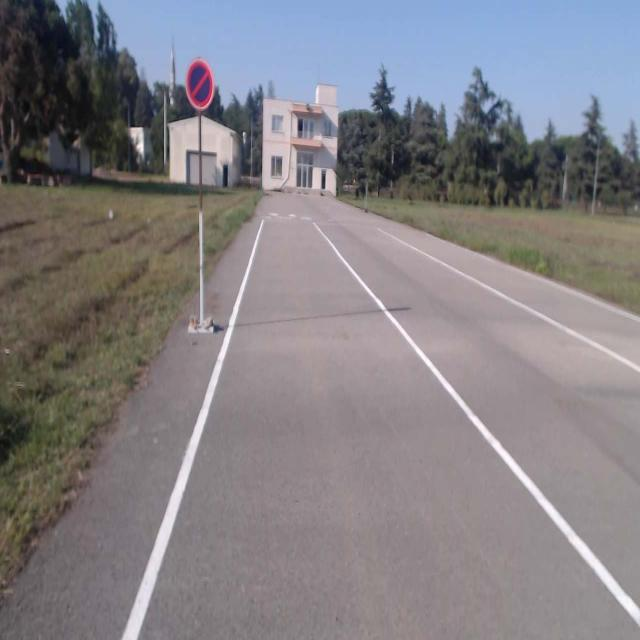parkyasak: (186, 59, 214, 110)
